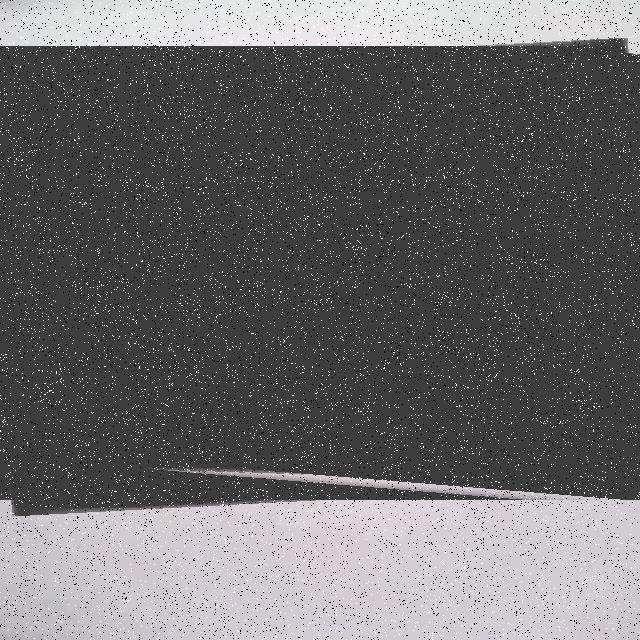dua ribu rupiah: (0, 46, 640, 508)
